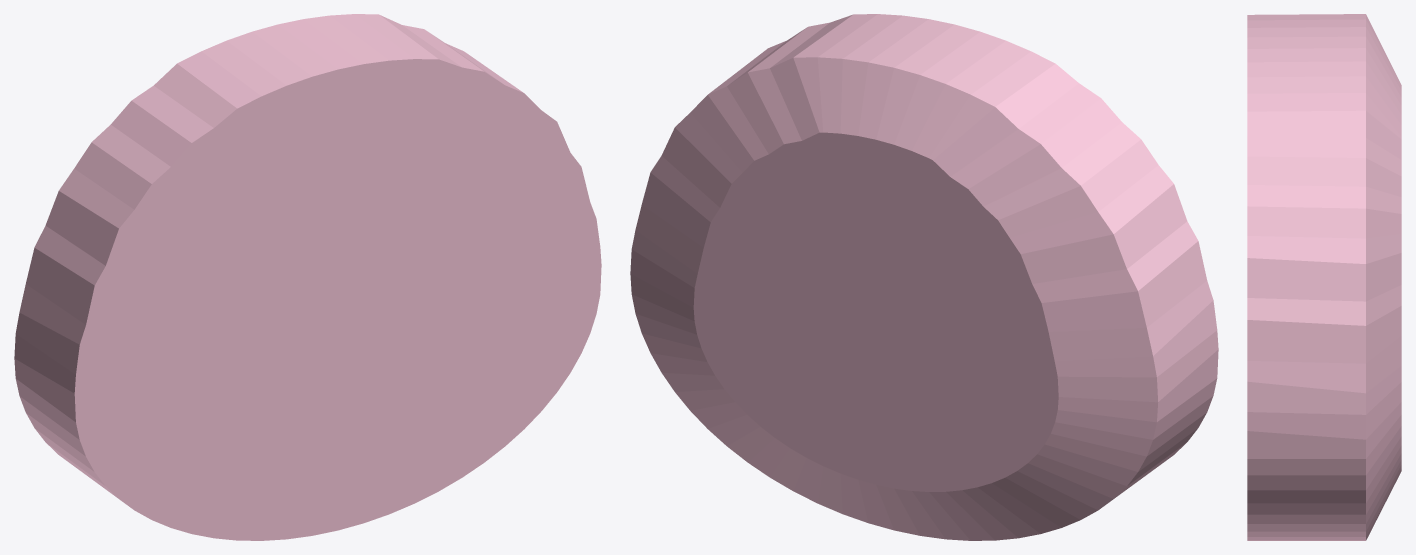
File: head_07.glb
3 views of the same model, side by side, from view 1: azimuth 30°, elevation 25°; view 2: azimuth 150°, elevation 25°; view 3: azimuth 270°, elevation 25° (orthographic).
Visible parts, largest first — view 1: head_07; view 2: head_07; view 3: head_07.
Part boxes in pixels (bbox=[...]): head_07: bbox=[14, 14, 601, 540]; head_07: bbox=[630, 14, 1218, 540]; head_07: bbox=[1247, 14, 1401, 540].
Size of the model in its own units: 2.23 by 1.86 by 0.5734.
